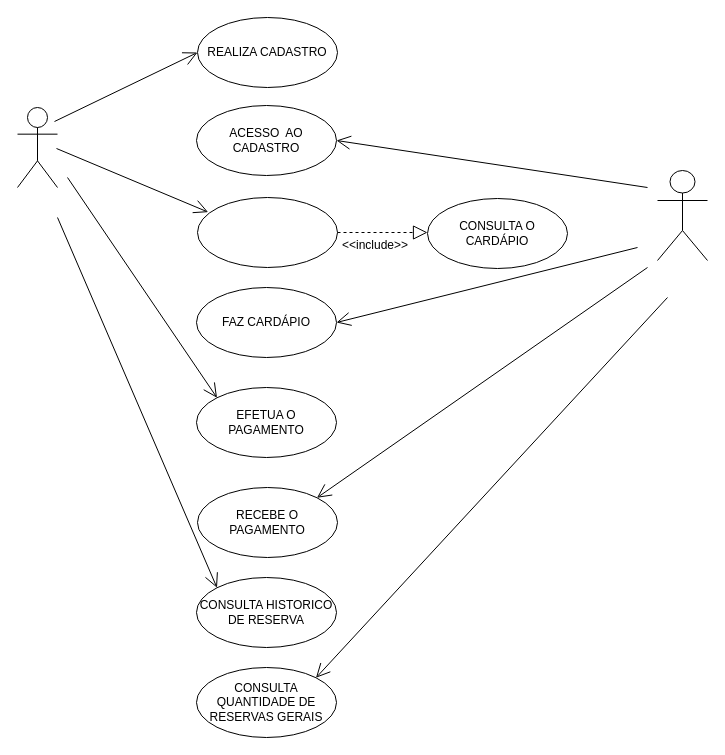
This 725x755 diagram has some shape labels left out. The shapes that lost their labels are listed below. From the top down, each one's centre as x and y in pixels, then its label:
At pixel 37 147: "ALUNO".
At pixel 267 232: "REALIZA REVERSA".
At pixel 682 215: "ADM".
